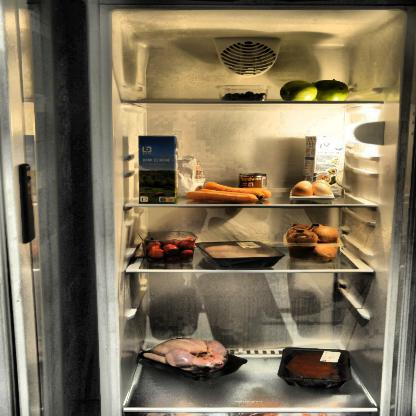apple: (279, 78, 352, 102)
beef: (282, 349, 347, 382)
blueberries: (220, 90, 268, 101)
carrot: (186, 183, 273, 202)
chicken: (140, 336, 232, 376), (201, 240, 276, 265)
corn: (238, 172, 265, 196)
eggs: (288, 178, 333, 198)
milk: (139, 136, 179, 205), (303, 136, 346, 197)
onion: (284, 222, 341, 262)
strawberries: (145, 233, 197, 264)
